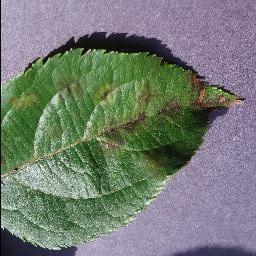apple healthy: (0, 30, 245, 250)
